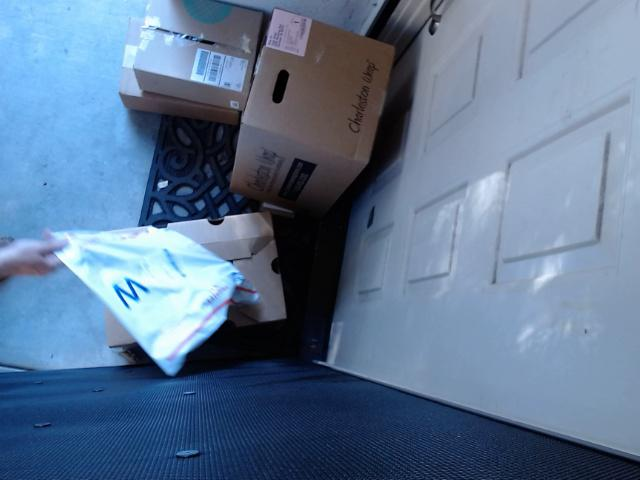box: (246, 5, 401, 239), (90, 206, 298, 324), (97, 0, 259, 136)
plastic_bag: (56, 222, 248, 382)
